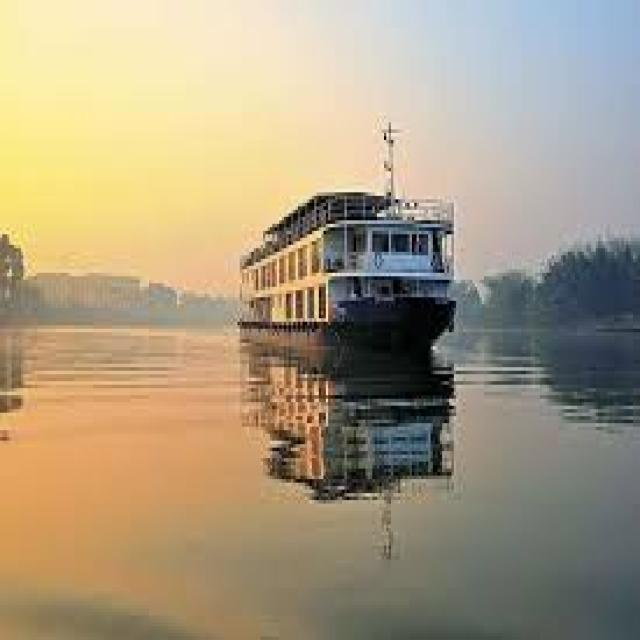passenger ship: (210, 143, 462, 351)
